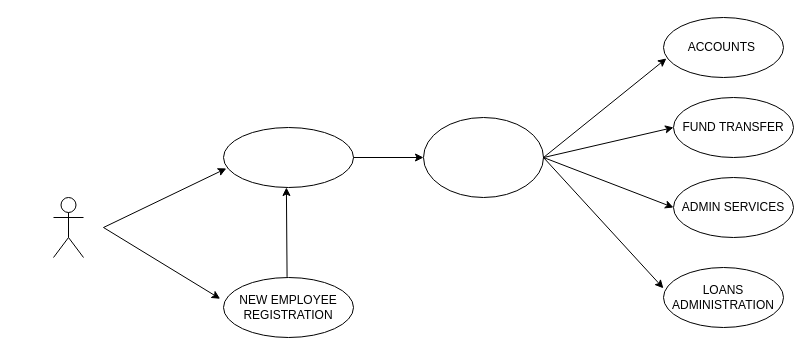
This 811x355 diagram has some shape labels left out. The shapes that lost their labels are listed below. From the top down, each one's centre as x and y in pixels, then its label:
the point at 288,157: EXISTING EMPLOYEE SIGN-IN
the point at 483,157: HOMEPAGE
the point at 68,227: BANK EMPLOYEE
